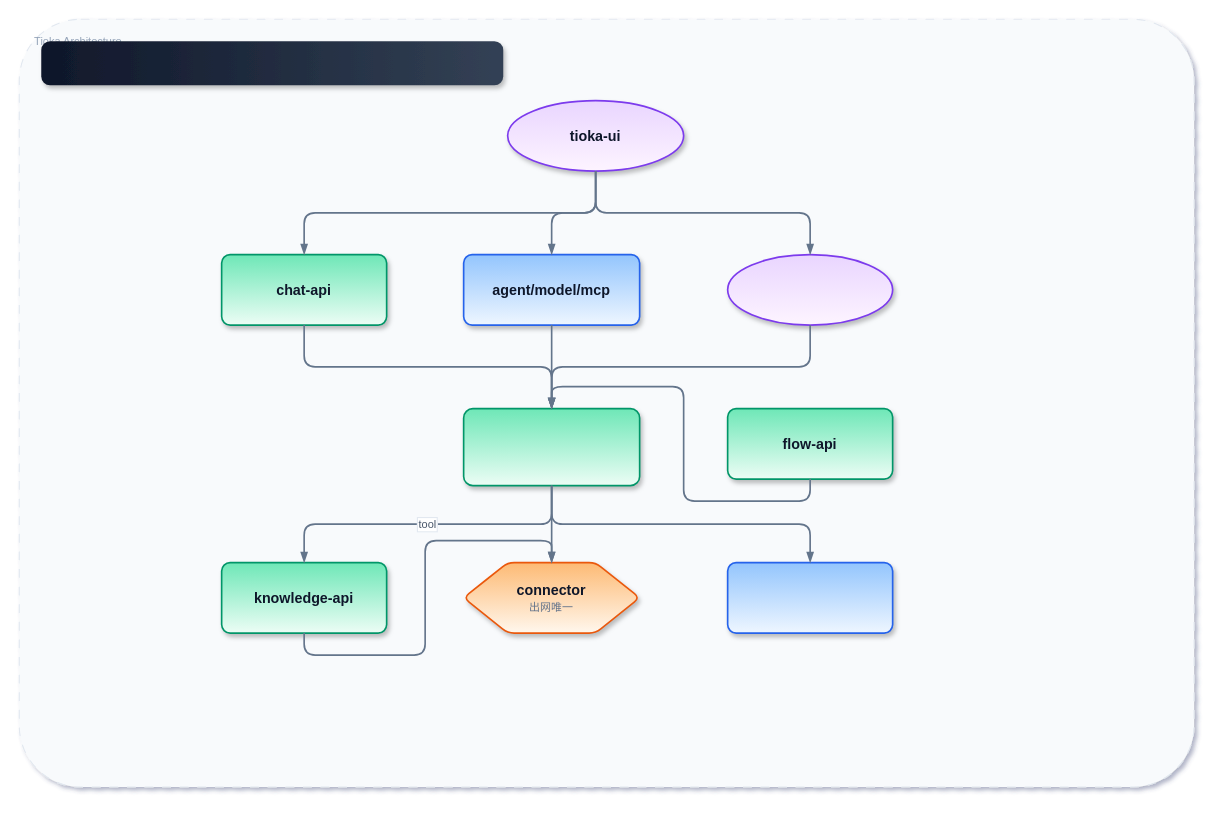
The diagram is 1220 pixels wide and 813 high, and some of its shapes have lost their labels. The shapes that lost their labels are listed below. From the top down, each one's centre as x and y in pixels, then its label:
the point at 272,64: 应用交互总图
the point at 811,291: orch-api
the point at 552,448: runtime-api
the point at 811,599: model-api
